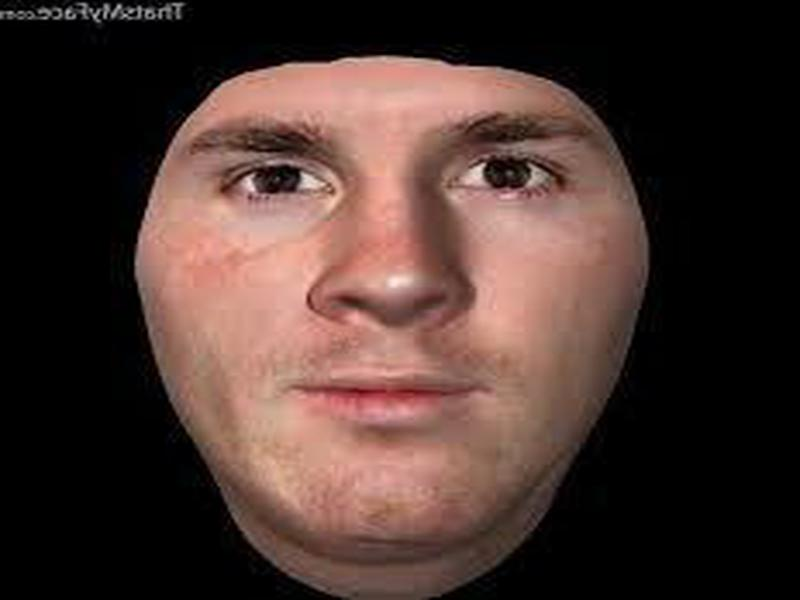without_mask: (134, 55, 649, 600)
